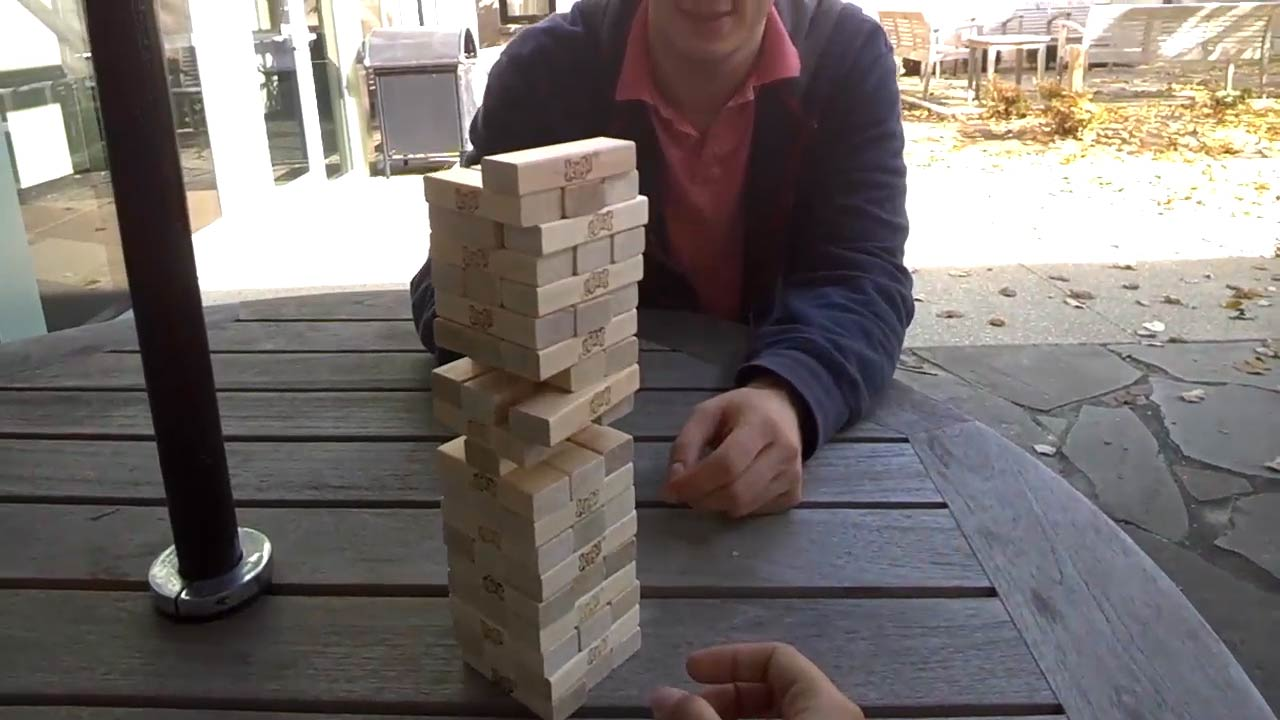hand: (668, 382, 812, 518), (646, 643, 867, 717)
